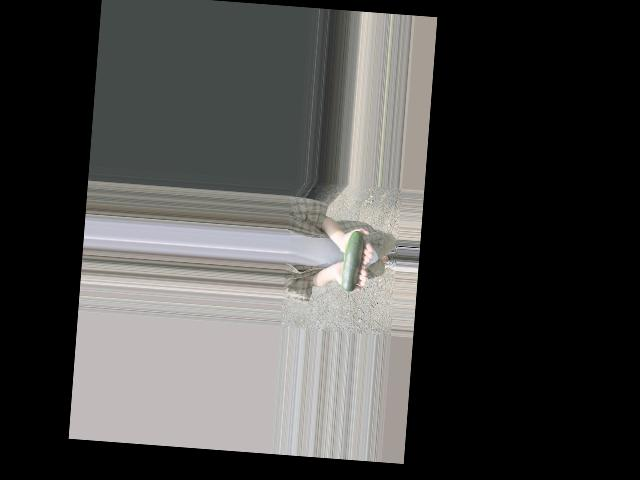cucumber: (340, 230, 365, 300)
